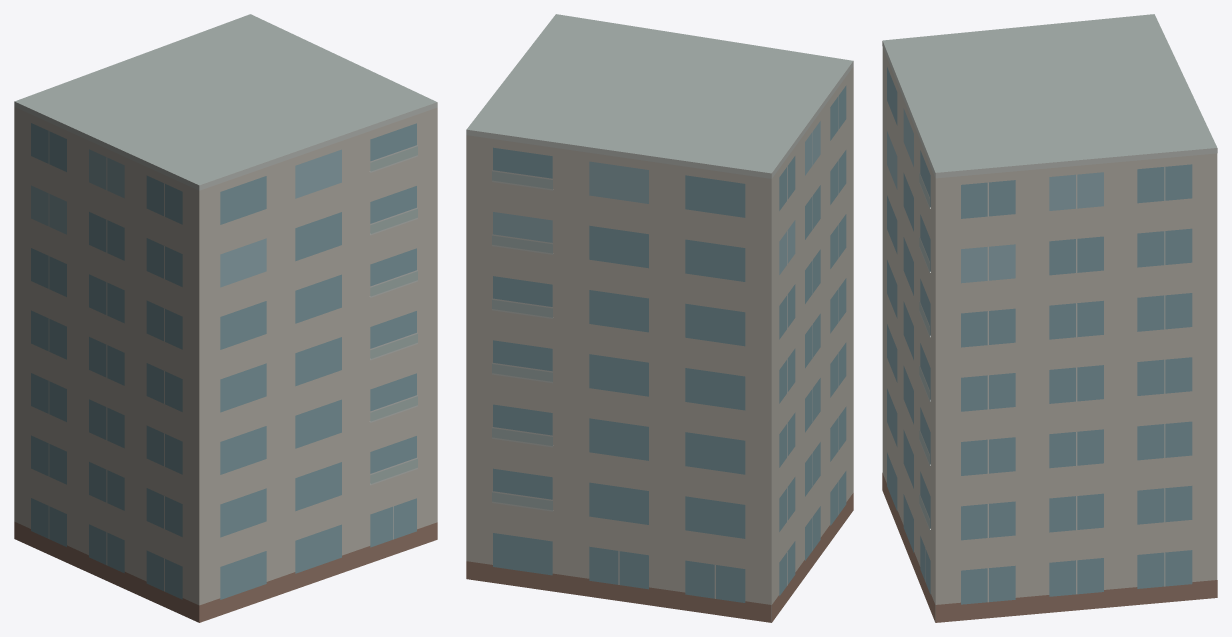
Rendered from survey-upis-32988374.glb.
3 views of the same model, side by side, from view 1: azimuth 30°, elevation 25°; view 2: azimuth 150°, elevation 25°; view 3: azimuth 270°, elevation 25° (orthographic). The views are drawn at different scales.
Visible parts, largest first — view 1: survey-upis-32988374.tmp; view 2: survey-upis-32988374.tmp; view 3: survey-upis-32988374.tmp.
Boxes of the visible parts, x1,y1,x2,y2 form: survey-upis-32988374.tmp: (14,14,437,622); survey-upis-32988374.tmp: (466,14,853,622); survey-upis-32988374.tmp: (882,14,1217,622).
Size of the model in its own units: 15.16 by 20 by 13.51.
